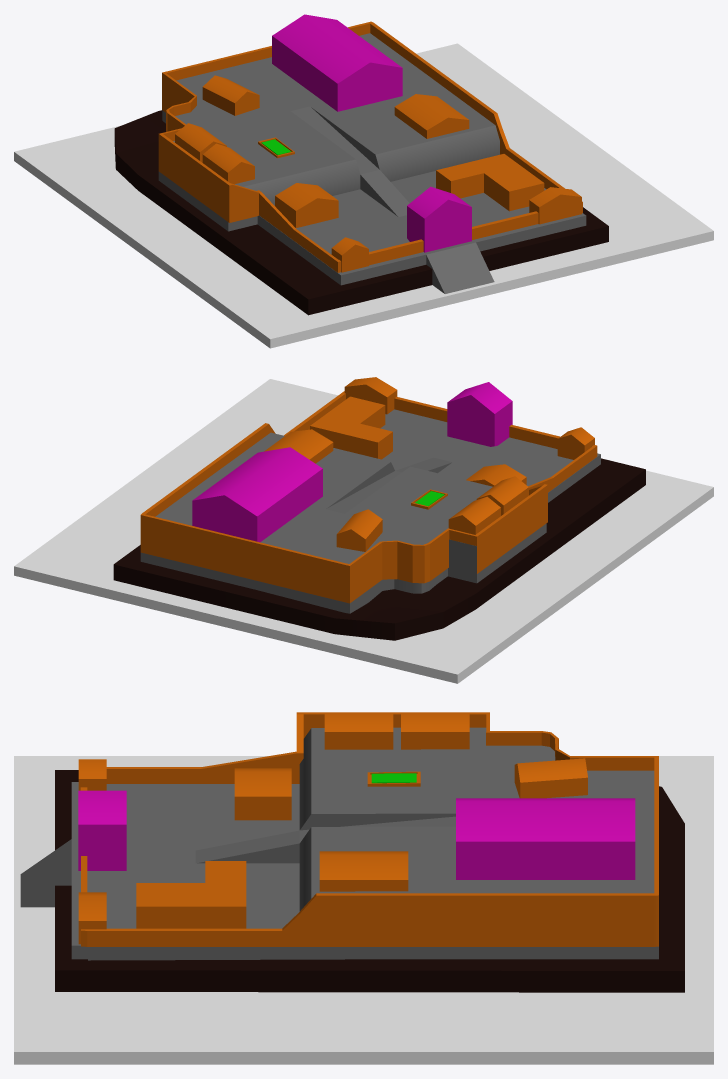
Rendered from blockout1truecsale (1).fbx.
3 renders of one model, top to bottom at view 1: azimuth 30°, elevation 25°; view 2: azimuth 150°, elevation 25°; view 3: azimuth 270°, elevation 25°, orthographic. The views are drawn at different scales.
Parts seen in each view (by area): view 1: Box001, pCube1, pCube14, pCube10, pCube5, pCube6, pCube2, pCube7, pCube8, pCube156, pCube4, pCube154 (+2 smaller); view 2: Box001, pCube1, pCube10, pCube14, pCube5, pCube6, pCube2, pCube156, pCube155, pCube7, pCube4, pCube154 (+2 smaller); view 3: Box001, pCube1, pCube10, pCube14, pCube5, pCube6, pCube2, pCube7, pCube8, pCube156, pCube154, pCube155 (+2 smaller).
Boxes of the visible parts, x1,y1,x2,y2 form: Box001: (14, 43, 713, 348); pCube1: (158, 33, 586, 293); pCube14: (114, 110, 608, 315); pCube10: (158, 21, 582, 272); pCube5: (272, 14, 402, 111); pCube6: (436, 154, 544, 211); pCube2: (407, 186, 471, 252); pCube7: (394, 94, 469, 138); pCube8: (275, 183, 338, 227); pCube156: (202, 75, 259, 115); pCube4: (529, 187, 581, 224); pCube154: (202, 143, 254, 184); Box001: (14, 379, 713, 683); pCube1: (140, 409, 600, 613); pCube10: (140, 391, 597, 603); pCube14: (113, 458, 645, 640); pCube5: (192, 447, 322, 542); pCube6: (310, 396, 392, 459); pCube2: (447, 382, 512, 446); pCube156: (336, 509, 382, 551); pCube155: (448, 496, 500, 534); pCube7: (264, 429, 333, 463); pCube4: (344, 377, 397, 414); pCube154: (476, 476, 528, 515); Box001: (14, 756, 713, 1064); pCube1: (20, 727, 658, 960); pCube10: (80, 712, 658, 946); pCube14: (55, 770, 684, 992); pCube5: (456, 798, 635, 879); pCube6: (136, 861, 246, 928); pCube2: (78, 790, 126, 870); pCube7: (319, 851, 408, 891); pCube8: (234, 768, 291, 820); pCube156: (514, 758, 587, 798); pCube154: (324, 712, 393, 749); pCube155: (401, 712, 469, 749).
Size of the model in its own units: 19685 by 4859 by 19685.
